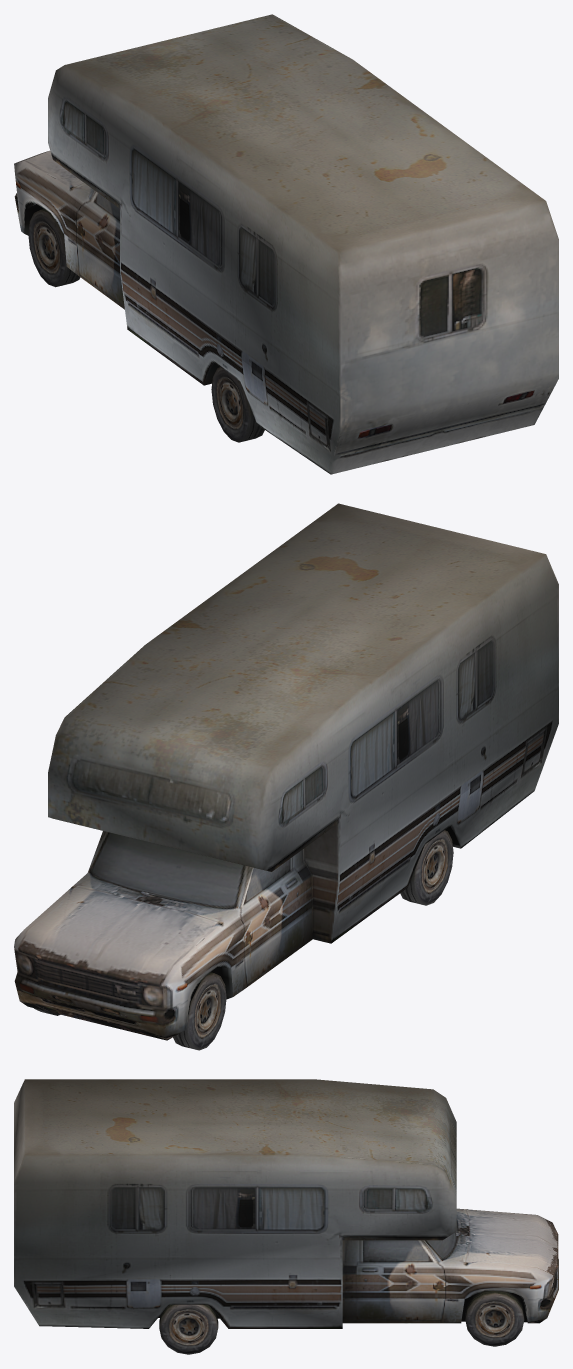
The model's file is minicamper.fbx.
The picture shows the model from 3 angles, top to bottom: view 1: azimuth 30°, elevation 25°; view 2: azimuth 150°, elevation 25°; view 3: azimuth 270°, elevation 25°; orthographic projection. The views are drawn at different scales.
Parts seen in each view (by area): view 1: subframe_mesh0; view 2: subframe_mesh0; view 3: subframe_mesh0.
Boxes of the visible parts, left/top/right/bottom form: subframe_mesh0: left=14, top=14, right=558, bottom=474; subframe_mesh0: left=14, top=503, right=558, bottom=1050; subframe_mesh0: left=14, top=1079, right=558, bottom=1354.
Size of the model in its own units: 3796 by 4461 by 10971.
1 material, 1 textured.
